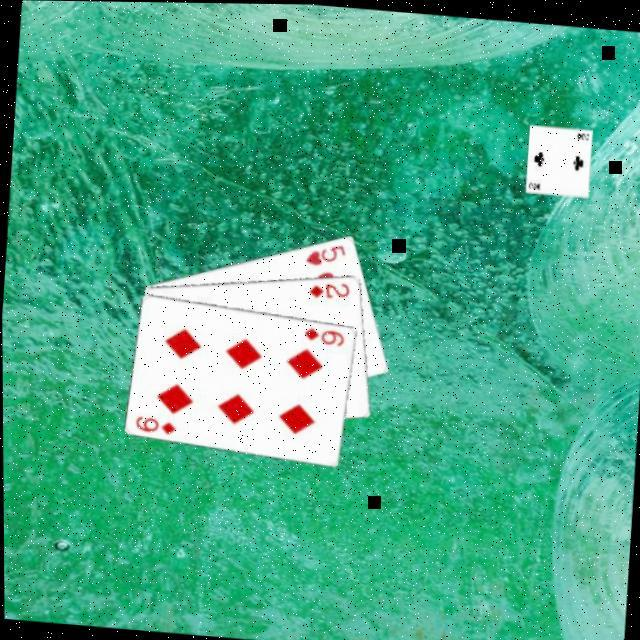2D: (306, 274, 354, 300)
5H: (304, 235, 351, 268)
6D: (133, 409, 180, 435), (302, 321, 349, 346)
